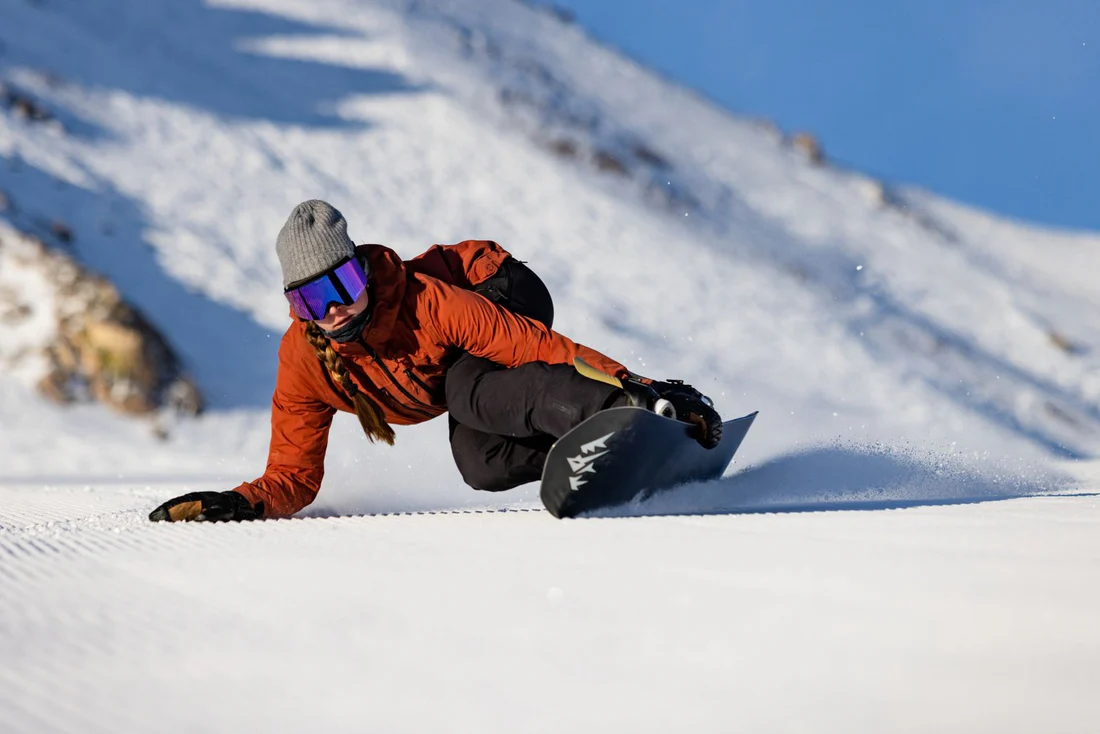snowboarder: (104, 158, 780, 560)
